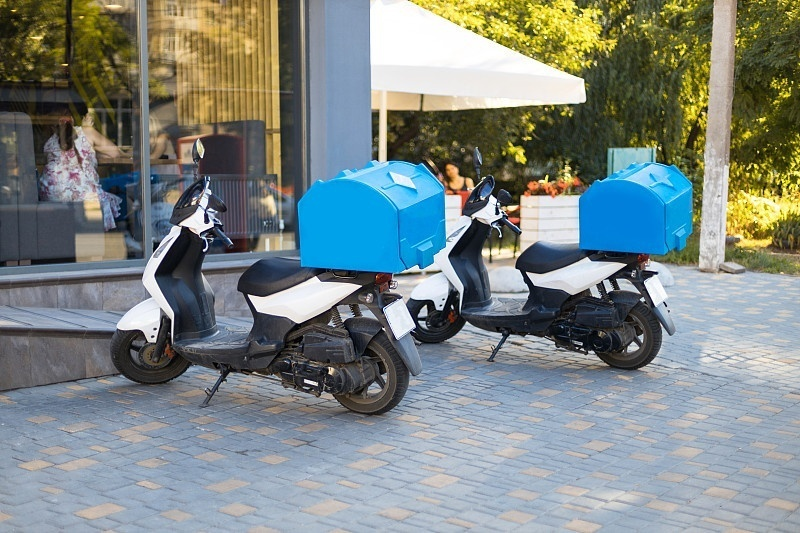non-vehicle: (105, 176, 424, 407), (409, 177, 698, 364)
